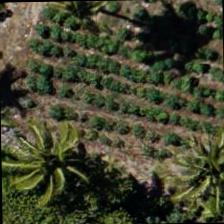Kelapa_Sawit: (8, 118, 100, 210), (170, 128, 223, 220)
